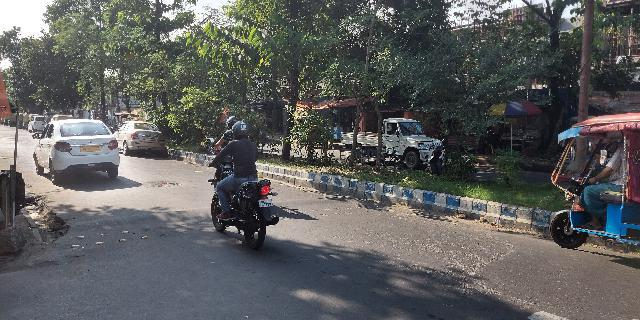Car: (28, 116, 119, 185), (112, 118, 172, 155)
Motorbike: (197, 113, 287, 254)
Rickshaw: (547, 109, 640, 252)
